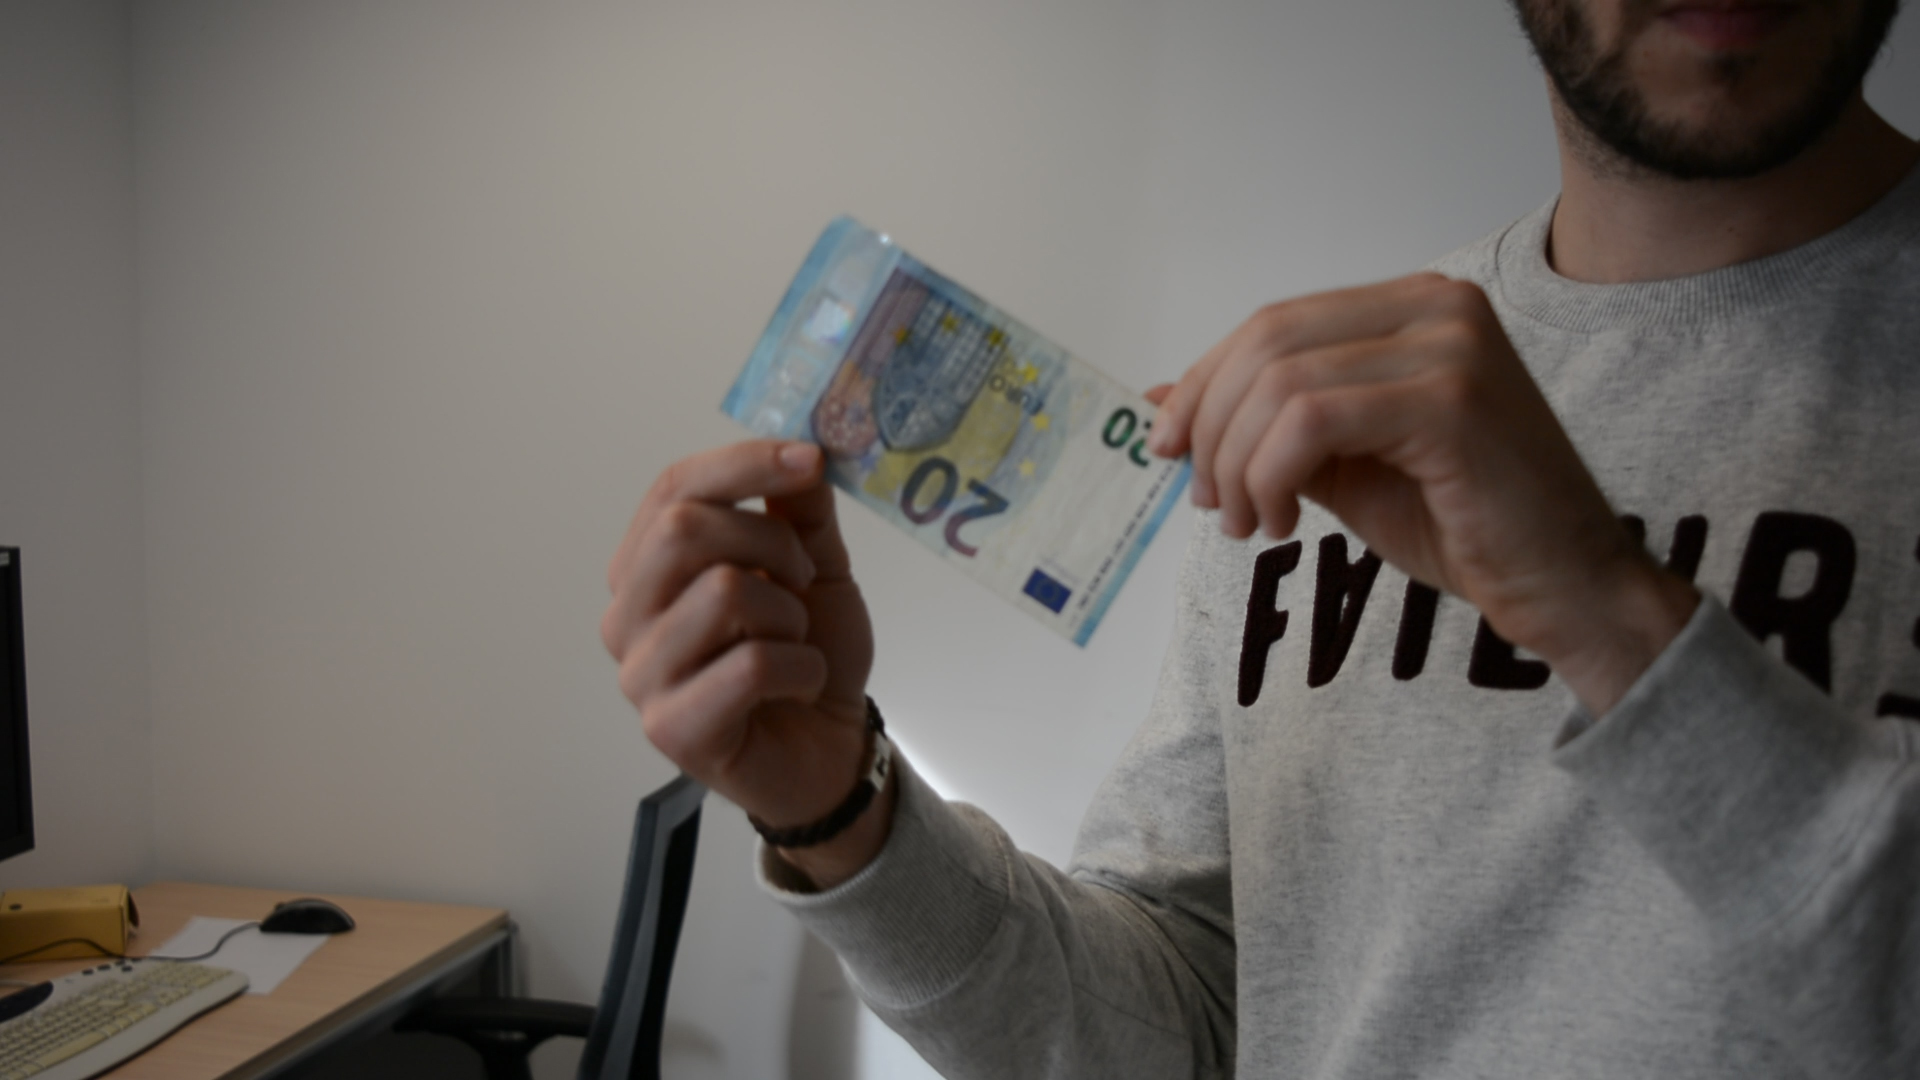billete: (711, 212, 1201, 655)
